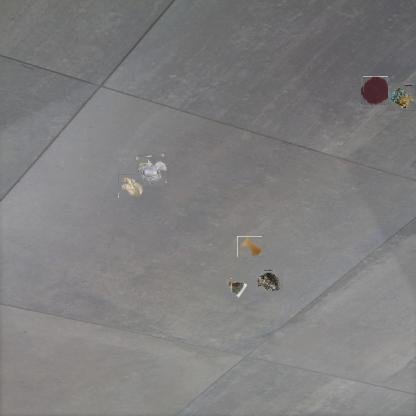dirty: (136, 156, 166, 184), (389, 84, 415, 110), (256, 269, 282, 293), (118, 174, 144, 198), (226, 278, 246, 300)
liquid: (362, 77, 389, 105), (237, 236, 262, 257)
